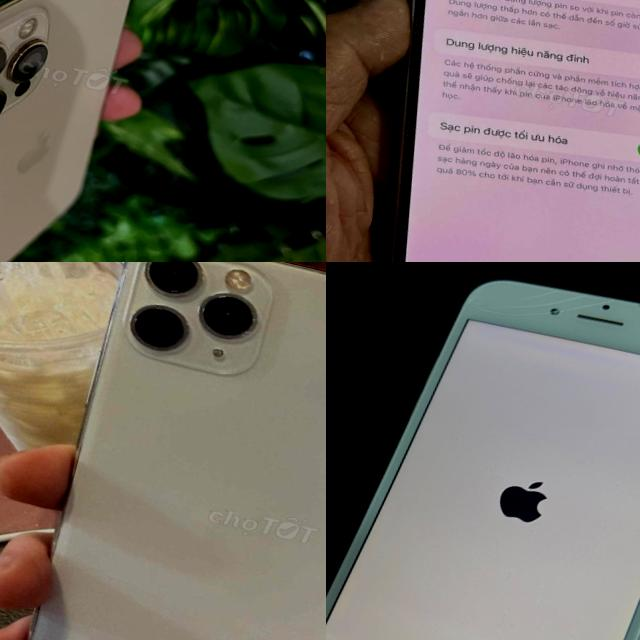gen_11: (0, 262, 326, 640)
gen_12_13: (0, 0, 158, 262)
gen_14: (326, 0, 640, 262)
gen_7_8: (326, 262, 640, 640)
